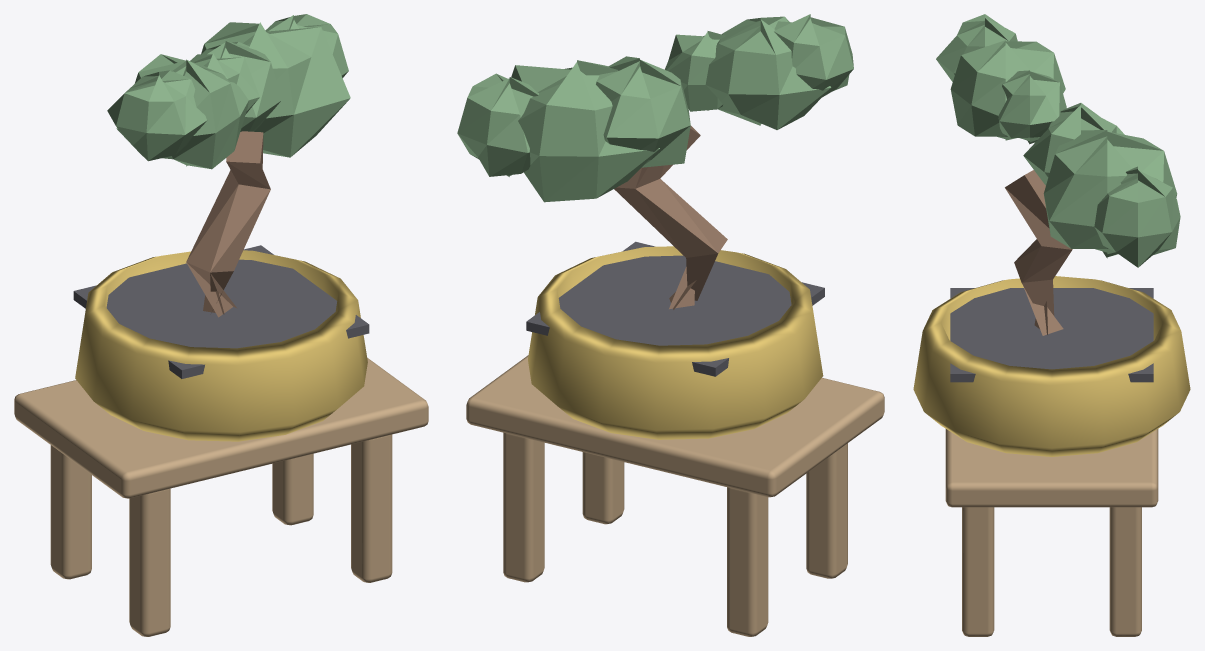
The model's file is bonsai.glb.
3 views of the same model, side by side, from view 1: azimuth 30°, elevation 25°; view 2: azimuth 150°, elevation 25°; view 3: azimuth 270°, elevation 25° (orthographic). The views are drawn at different scales.
Parts seen in each view (by area): view 1: bonsai-in-glazed-pot; view 2: bonsai-in-glazed-pot; view 3: bonsai-in-glazed-pot.
Boxes of the visible parts, x1,y1,x2,y2 form: bonsai-in-glazed-pot: (14, 14, 428, 636); bonsai-in-glazed-pot: (457, 14, 884, 636); bonsai-in-glazed-pot: (913, 14, 1190, 636).
Size of the model in its own units: 0.7438 by 1.24 by 0.6.
